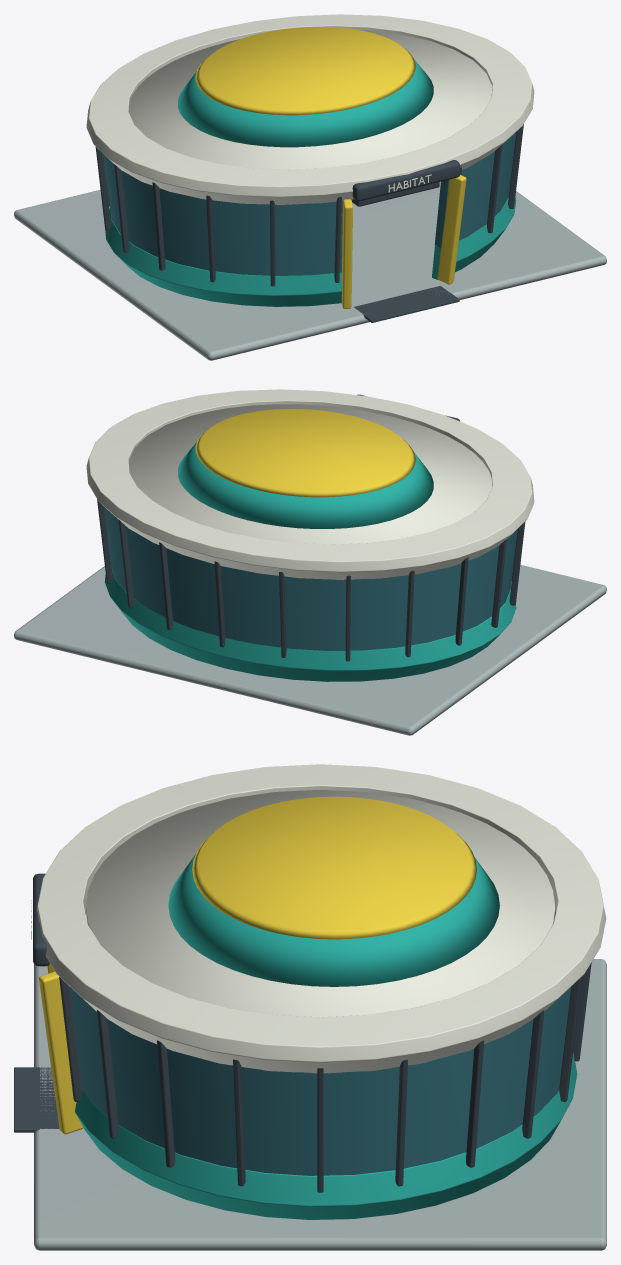
The model's file is aster_habitat.glb.
3 renders of one model, top to bottom at view 1: azimuth 30°, elevation 25°; view 2: azimuth 150°, elevation 25°; view 3: azimuth 270°, elevation 25°, orthographic. The views are drawn at different scales.
Visible parts, largest first — view 1: aster_habitat; view 2: aster_habitat; view 3: aster_habitat.
Part boxes in pixels (x1,y1,x2,y2): aster_habitat: (14, 14, 606, 360); aster_habitat: (14, 389, 606, 735); aster_habitat: (14, 764, 606, 1250).
Bounding box in the file's own units: 13.95 × 5.63 × 12.21.
